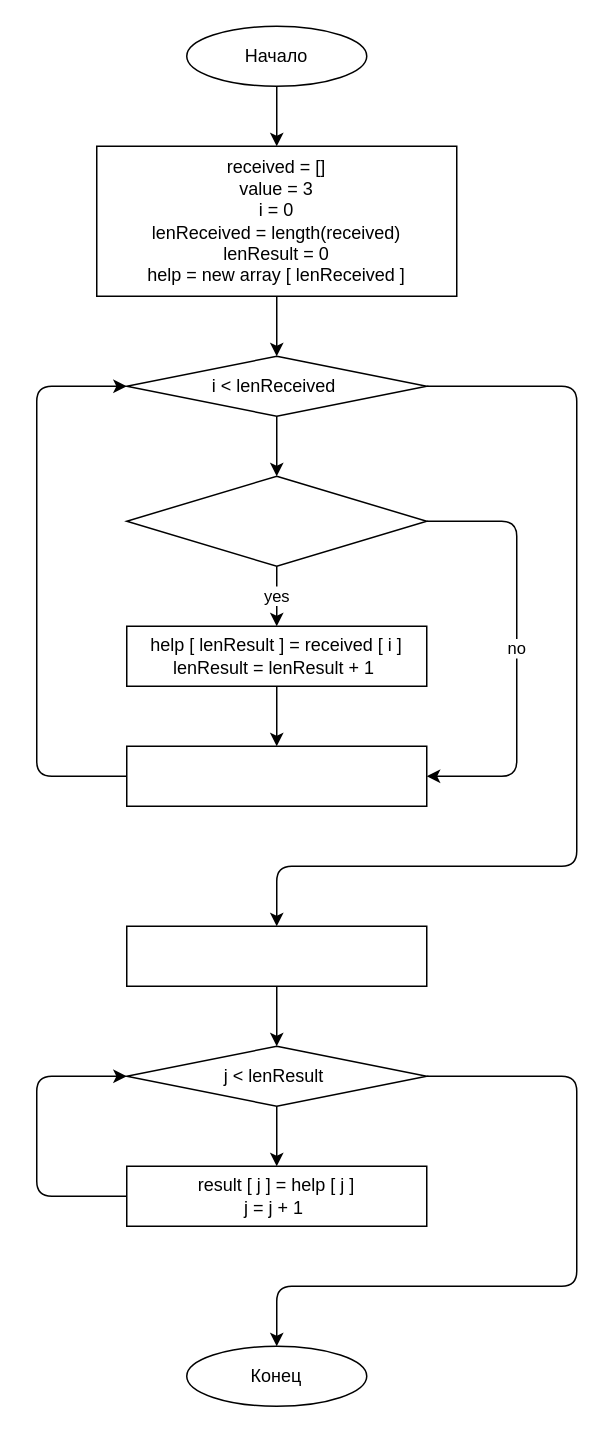
Image size: 615x1433. Some labels were removed from this diagram. The shapes that lost their labels are listed below. From the top down, each one's centre as x and y in pixels, then its label:
At (276,520): "length received [ i ] <= value".
At (276,775): "i = i + 1".
At (276,955): "j = 0 result = new array [ lenResult ]".
